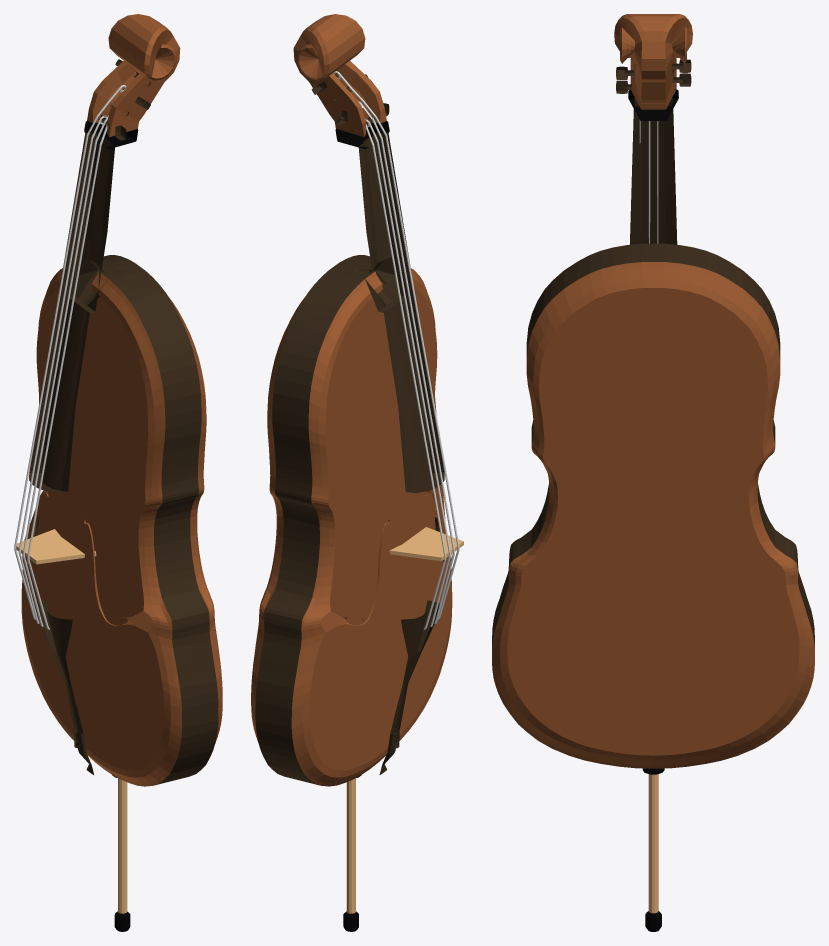
Rendered from cello.glb.
3 views of the same model, side by side, from view 1: azimuth 30°, elevation 25°; view 2: azimuth 150°, elevation 25°; view 3: azimuth 270°, elevation 25° (orthographic). The views are drawn at different scales.
Parts seen in each view (by area): view 1: cuerpo, cuerdas; view 2: cuerpo, cuerdas; view 3: cuerpo.
Part boxes in pixels (x1,y1,x2,y2): cuerpo: (14,14,222,931); cuerdas: (14,84,126,629); cuerpo: (251,14,463,931); cuerdas: (333,71,459,629); cuerpo: (492,14,814,931).
Size of the model in its own units: 1.51 by 8.45 by 2.67.
